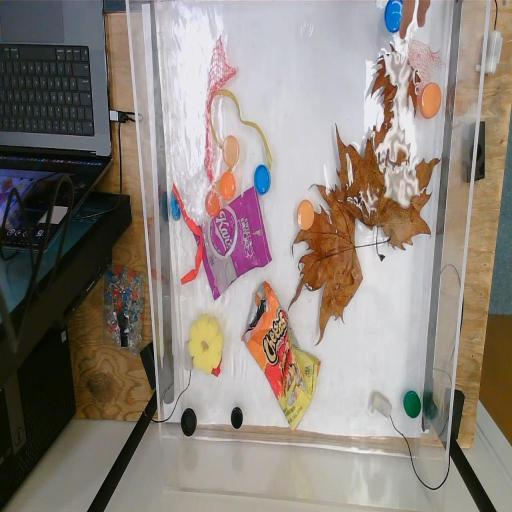Bottle Cap: (420, 81, 442, 119), (220, 132, 240, 169), (297, 196, 315, 232), (253, 162, 272, 196), (383, 0, 403, 32), (179, 406, 197, 440), (404, 389, 422, 419), (218, 170, 236, 200), (203, 190, 221, 217), (230, 405, 244, 431), (170, 189, 180, 225)
Cone Cap: (210, 360, 222, 378)
Leaf: (306, 100, 440, 262), (287, 183, 392, 343), (370, 40, 422, 136)
Netting: (204, 35, 238, 181), (406, 35, 445, 81)
Plastic Bag: (242, 280, 320, 436), (192, 184, 272, 302)
Plastic Strand: (208, 87, 272, 175), (172, 180, 203, 286)
Sponge: (188, 312, 222, 371)
